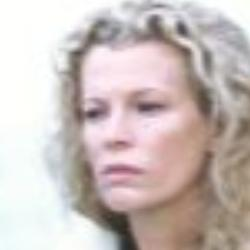face: (40, 3, 250, 236)
